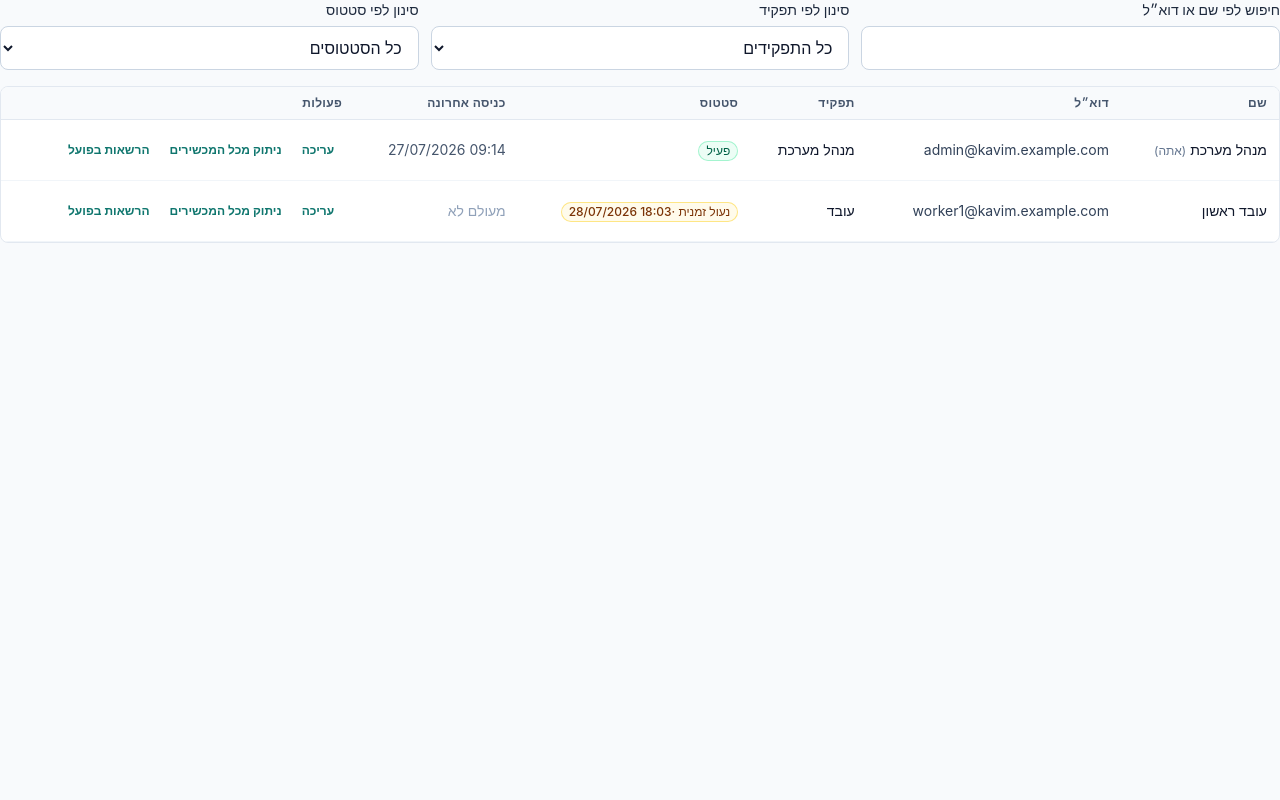
Scenario: UserTable › closes a confirmation on Escape
Click the button "ניתוק מכל המכשירים" in the row of "עובד ראשון".
click(226, 211)  # box [162,189,290,233]
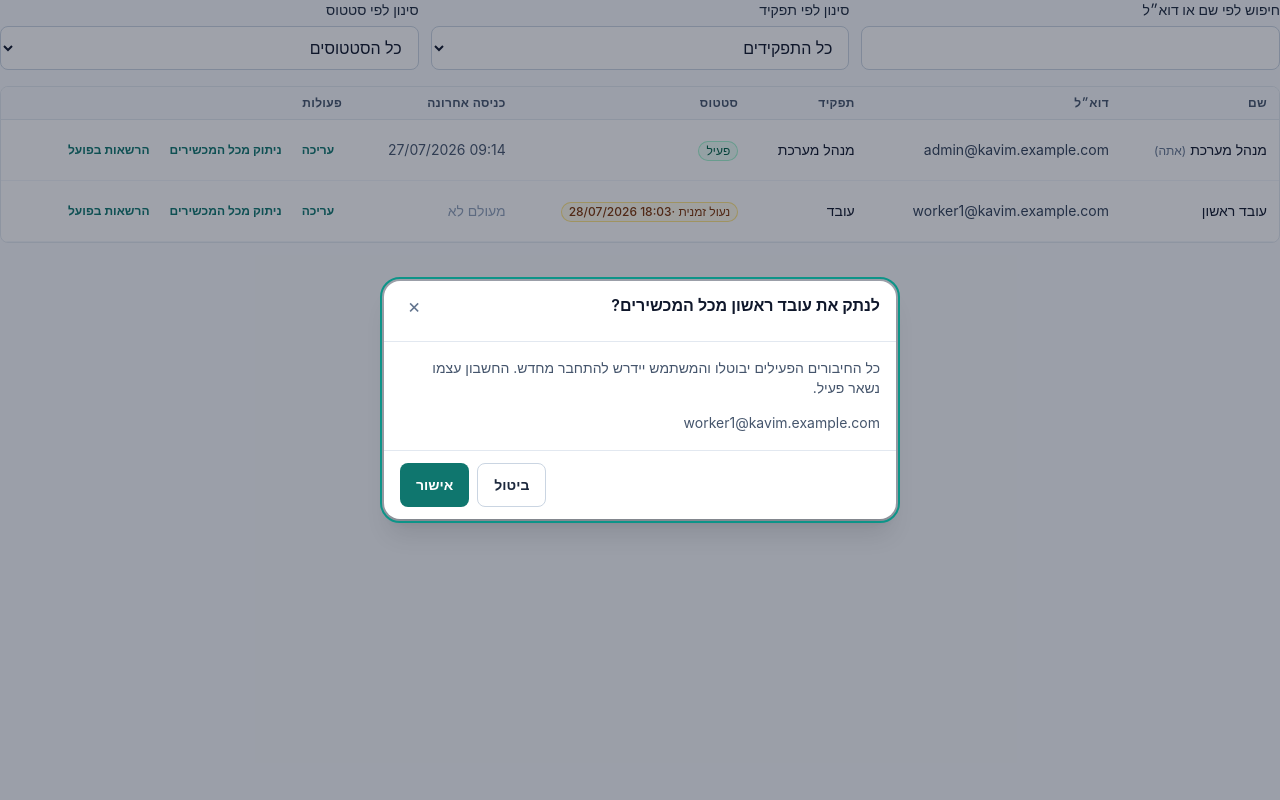
Expected: the dialog is shown, [384,281,896,519]
Press Escape
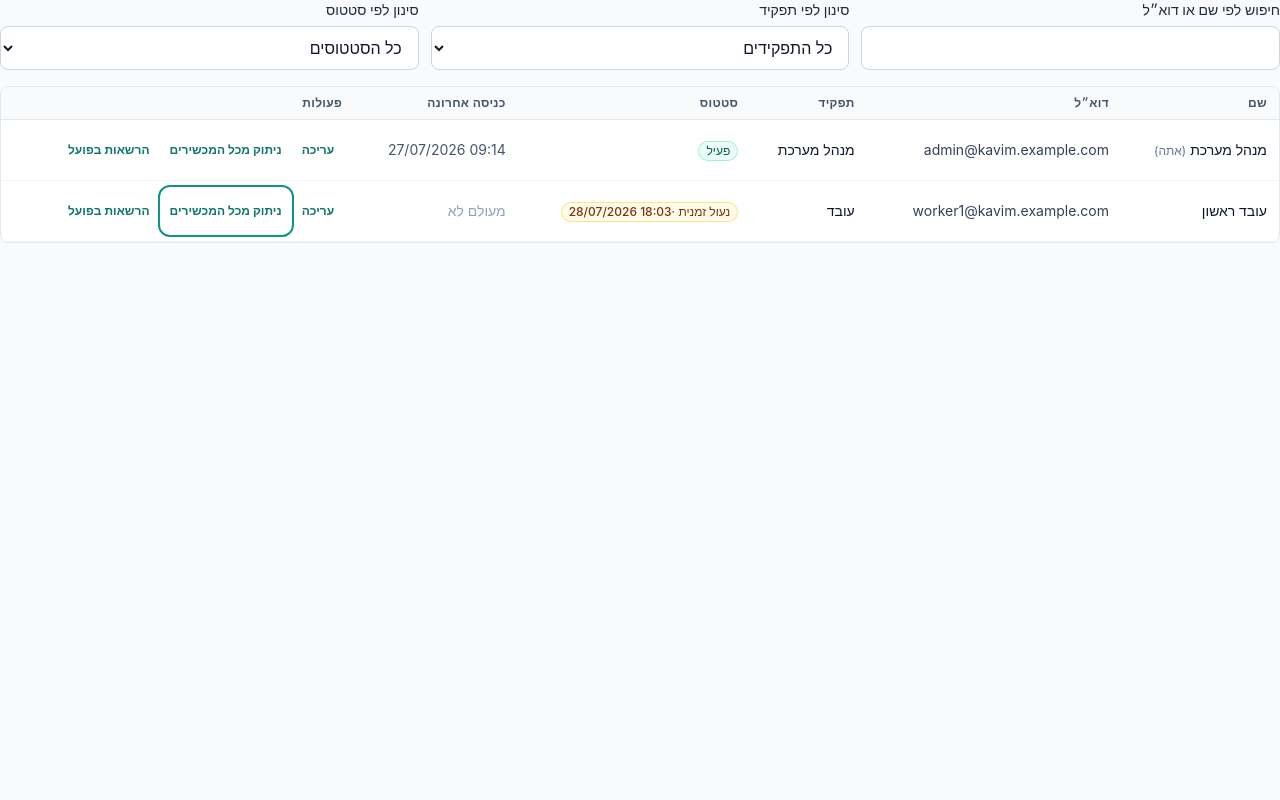
Expected: the dialog is gone
